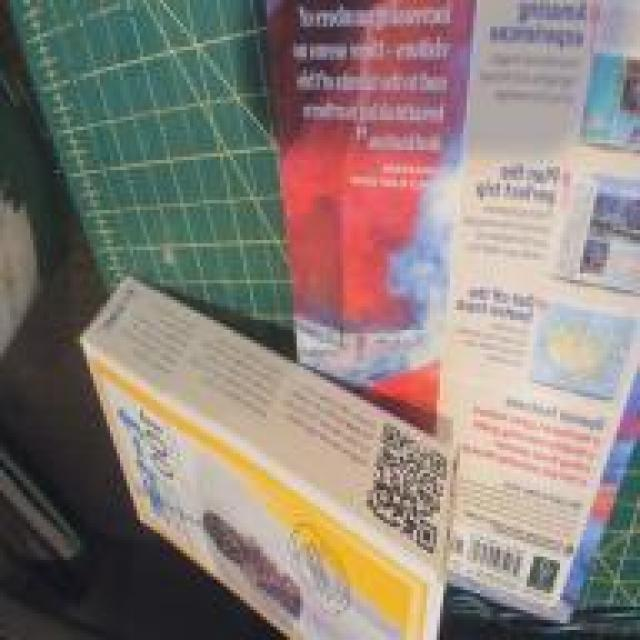QR_CODE: (360, 414, 455, 564)
